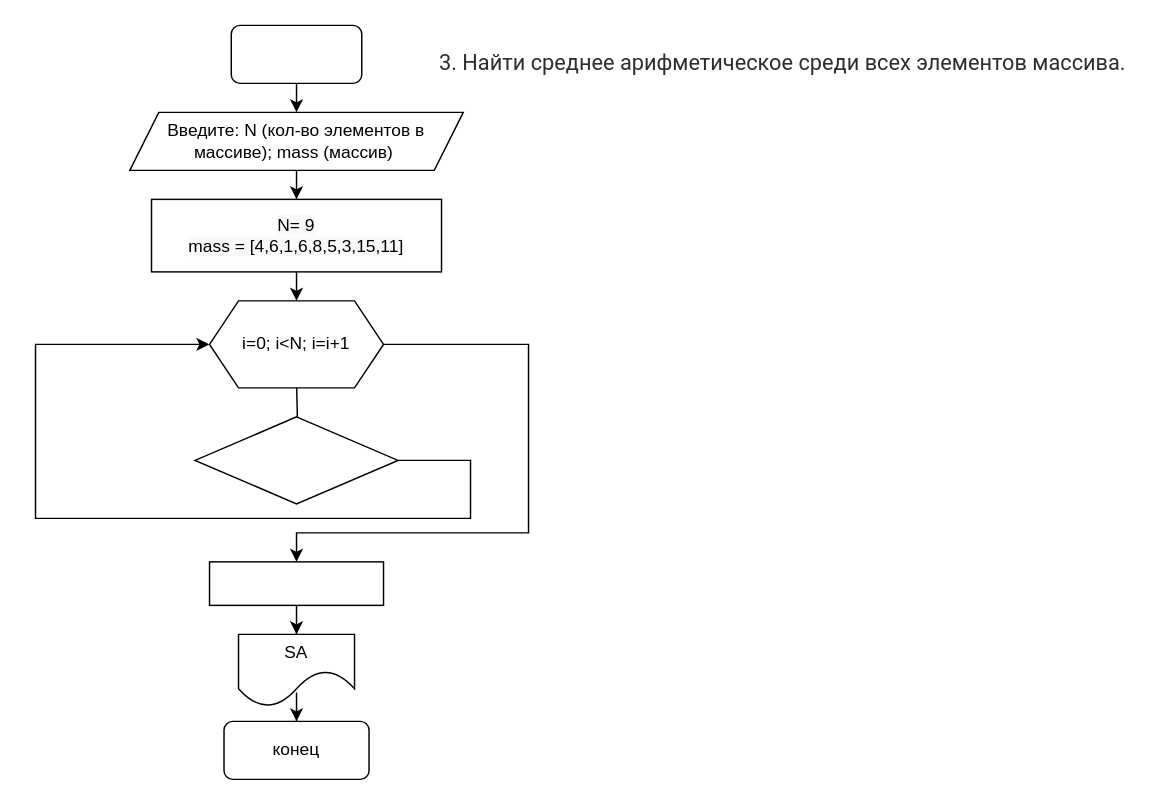
The diagram is 1163 pixels wide and 805 high, and some of its shapes have lost their labels. Each missing label, with the centre of its shape:
SA = sum/N: point (296, 582)
sum = sum + mass[I]: point (296, 459)
начало: point (296, 53)
